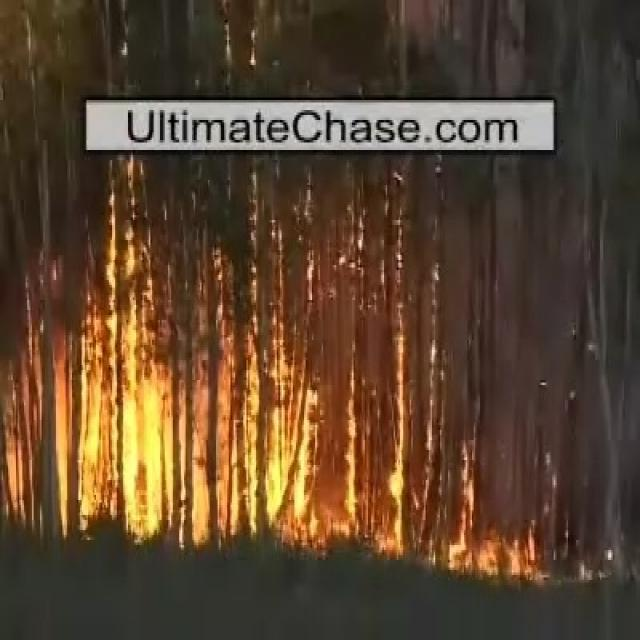fire: (82, 373, 170, 537), (268, 406, 313, 523)
